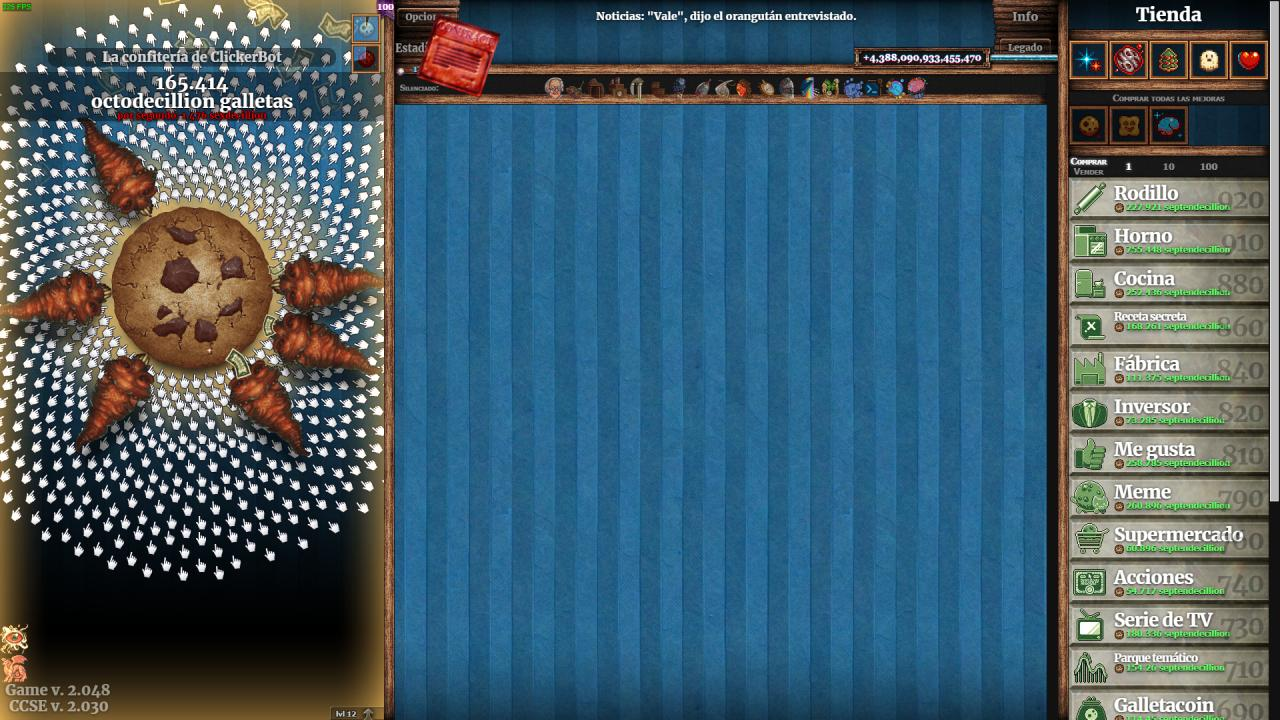RedCartridge: (415, 12, 502, 99)
